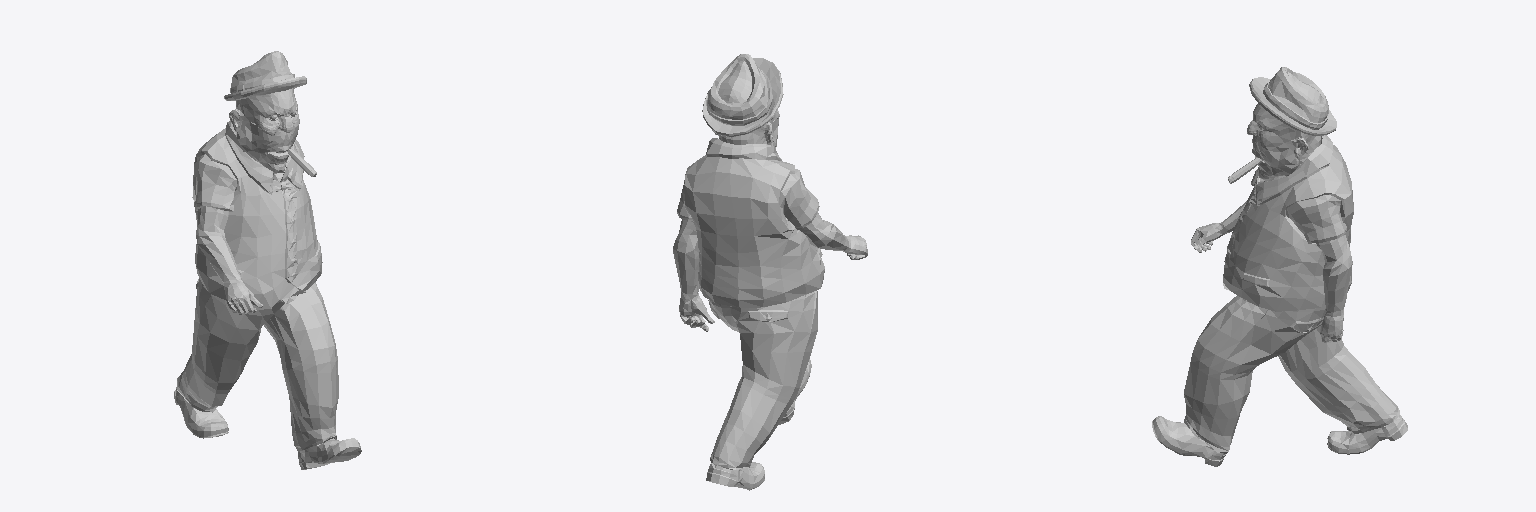
The model's file is walk0008.obj.
The picture shows the model from 3 angles: view 1: azimuth 30°, elevation 25°; view 2: azimuth 150°, elevation 25°; view 3: azimuth 270°, elevation 25°; orthographic projection.
Visible parts, largest first — view 1: mixamorig:Jacket_Geo, mixamorig:Pants_Geo, mixamorig:Head_Geo, mixamorig:Arms_Geo, mixamorig:Shoes_Geo, mixamorig:Hat_Geo; view 2: mixamorig:Jacket_Geo, mixamorig:Pants_Geo, mixamorig:Hat_Geo, mixamorig:Arms_Geo, mixamorig:Shoes_Geo, mixamorig:Head_Geo; view 3: mixamorig:Pants_Geo, mixamorig:Jacket_Geo, mixamorig:Hat_Geo, mixamorig:Arms_Geo, mixamorig:Shoes_Geo, mixamorig:Head_Geo.
Part boxes in pixels (left/top/right/bottom): mixamorig:Jacket_Geo: left=192, top=120, right=322, bottom=309; mixamorig:Pants_Geo: left=176, top=278, right=338, bottom=451; mixamorig:Head_Geo: left=229, top=88, right=299, bottom=181; mixamorig:Arms_Geo: left=196, top=206, right=263, bottom=314; mixamorig:Shoes_Geo: left=174, top=389, right=361, bottom=469; mixamorig:Hat_Geo: left=224, top=51, right=306, bottom=100; mixamorig:Jacket_Geo: left=677, top=138, right=824, bottom=307; mixamorig:Pants_Geo: left=708, top=291, right=817, bottom=469; mixamorig:Hat_Geo: left=702, top=54, right=783, bottom=137; mixamorig:Arms_Geo: left=673, top=213, right=867, bottom=331; mixamorig:Shoes_Geo: left=706, top=359, right=811, bottom=490; mixamorig:Head_Geo: left=712, top=110, right=779, bottom=148; mixamorig:Pants_Geo: left=1184, top=296, right=1399, bottom=453; mixamorig:Jacket_Geo: left=1223, top=135, right=1353, bottom=311; mixamorig:Hat_Geo: left=1249, top=67, right=1336, bottom=135; mixamorig:Arms_Geo: left=1191, top=201, right=1352, bottom=342; mixamorig:Shoes_Geo: left=1152, top=415, right=1407, bottom=466; mixamorig:Head_Geo: left=1247, top=104, right=1320, bottom=181.
Bounding box in the file's own units: 0.6451 × 1.92 × 1.13.